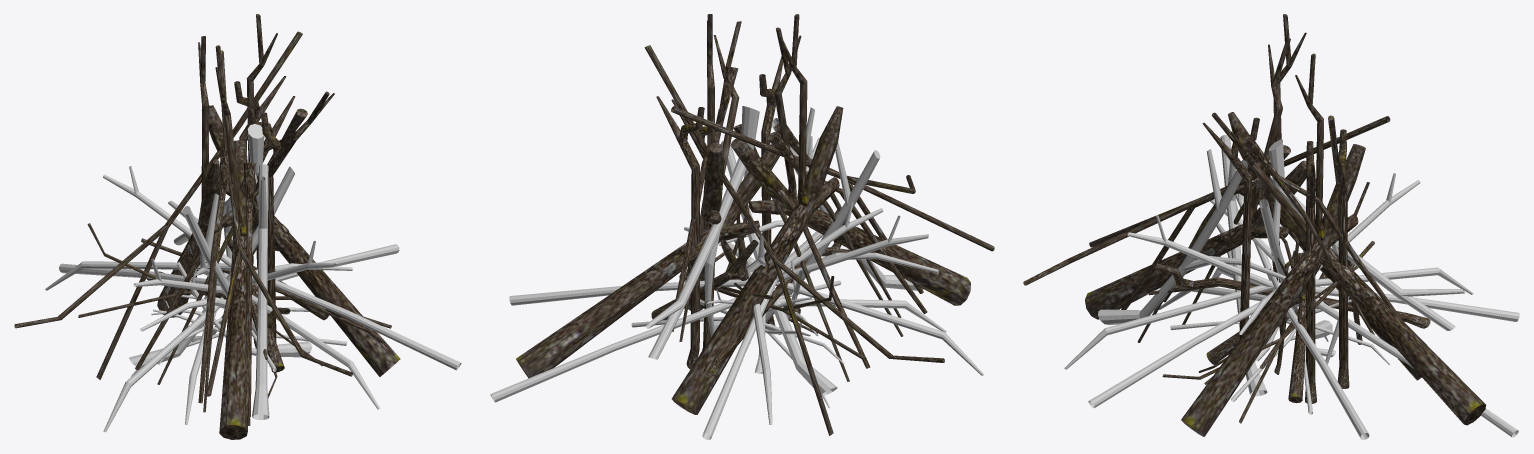
The model's file is fireplaceSmallModel.fbx.
The picture shows the model from 3 angles, left to right: view 1: azimuth 30°, elevation 25°; view 2: azimuth 150°, elevation 25°; view 3: azimuth 270°, elevation 25°; orthographic projection. The views are drawn at different scales.
Visible parts, largest first — view 1: Cylinder_021; view 2: Cylinder_021; view 3: Cylinder_021.
Part boxes in pixels (x1,y1,x2,y2): Cylinder_021: [14, 14, 461, 439]; Cylinder_021: [490, 14, 994, 439]; Cylinder_021: [1023, 14, 1519, 439].
Bounding box in the file's own units: 0.951 × 0.8121 × 1.
